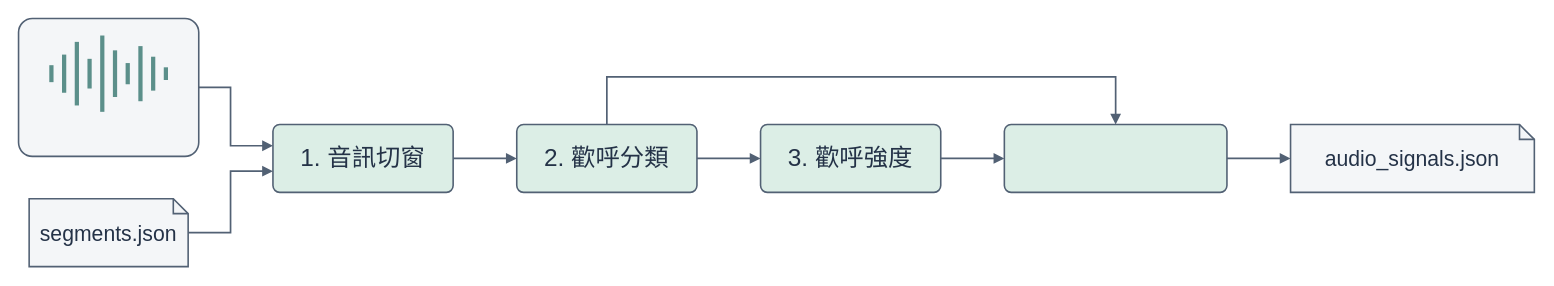
Image size: 1554x286. Some labels were removed from this diagram. Each missing label, with the box of its shape:
4. 片段層級聚合: (1003, 123, 1227, 193)
賽事影片音軌: (17, 17, 199, 157)
